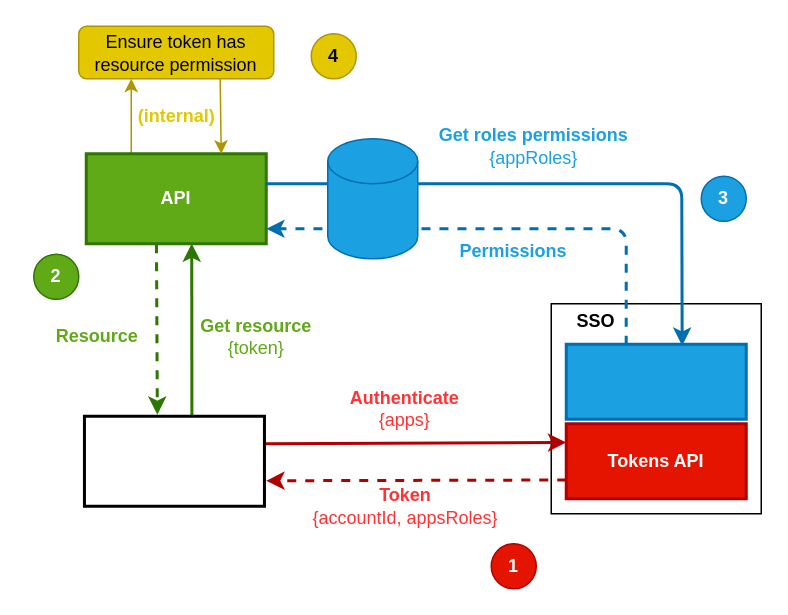
The diagram is 788 pixels wide and 615 high, and some of its shapes have lost their labels. The centre of each missing label's shape, as x and y in pixels:
"Cache" goes at (372,198).
"Client" goes at (173,460).
"Permissions API" goes at (655,381).
